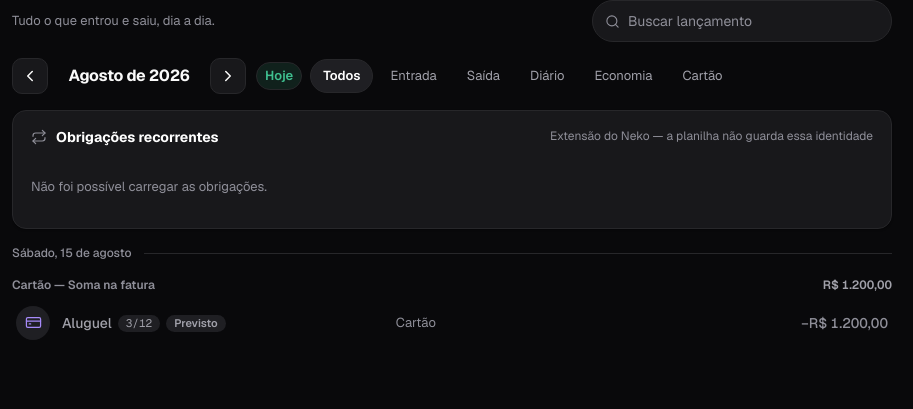
it: TransactionsScreen — apagar série recorrente › labels the delete action 'Apagar da série' on a recurring occurrence
Click the button "Aluguel 3/12 Previsto Cartão −R$ 1.200,00" at (33, 323), box [12,298,892,348]
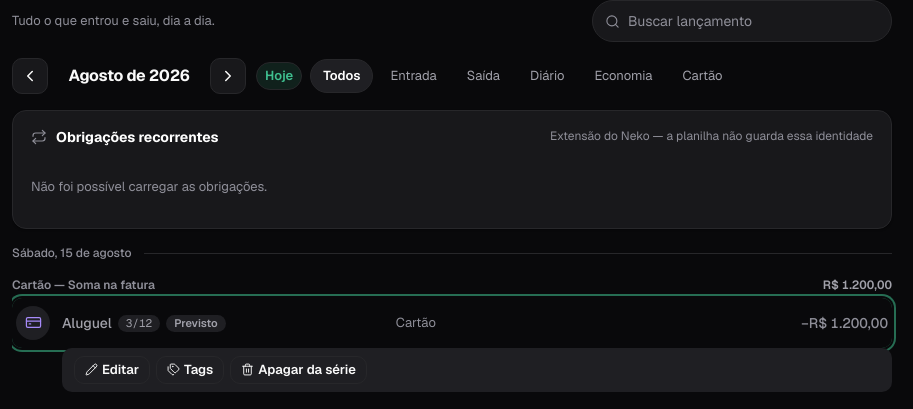
Expected: the button "Apagar da série" is shown, [230,356,367,384]
